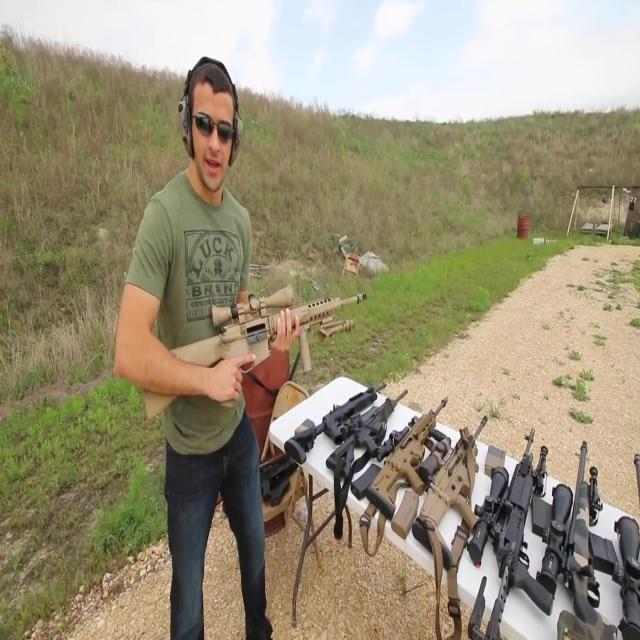Weapon: (221, 362, 640, 640), (106, 274, 378, 422)
